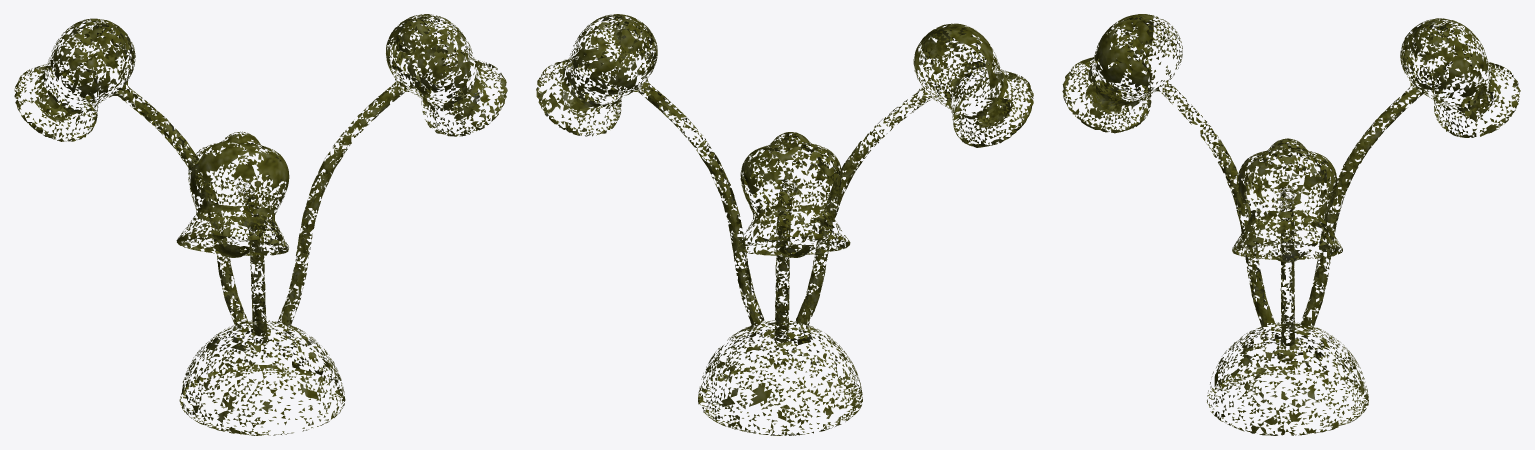
File: lamp_final300.obj
3 views of the same model, side by side, from view 1: azimuth 30°, elevation 25°; view 2: azimuth 150°, elevation 25°; view 3: azimuth 270°, elevation 25° (orthographic).
Bounding box in the file's own units: 1.59 × 1.32 × 1.62.
